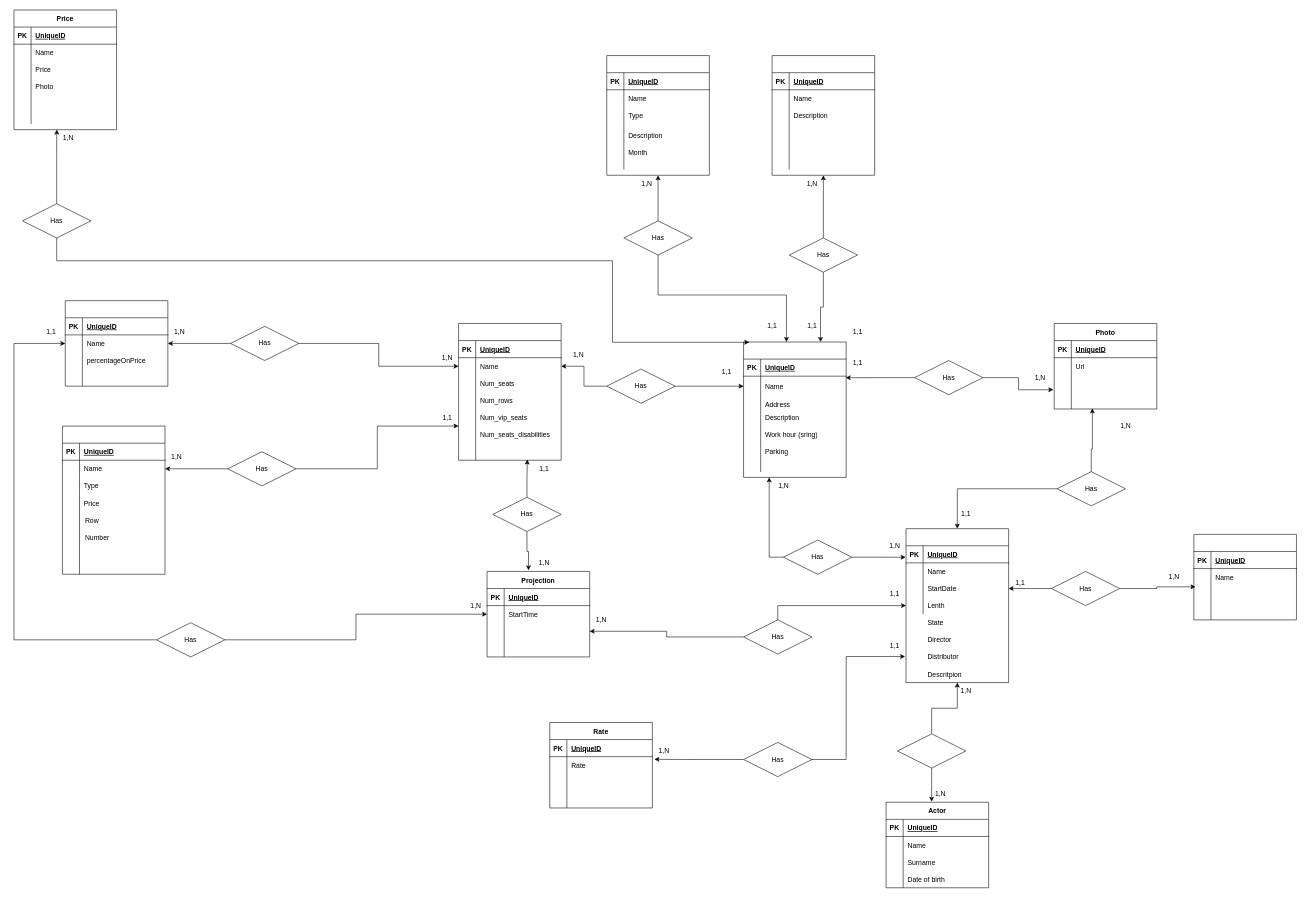
This 1306x898 diagram has some shape labels left out. The shapes that lost their labels are listed below. From the top down, each one's box as (x1, y1, x2, y2) in pixels, then its label:
(606, 55, 709, 175): Event
(771, 55, 875, 175): Equipment
(65, 300, 168, 386): Technology
(458, 323, 561, 460): Hall
(743, 341, 846, 477): Cinema
(62, 426, 165, 574): Seat
(1193, 534, 1296, 620): Genre
(905, 528, 1009, 683): Movie
(897, 733, 966, 768): Act
